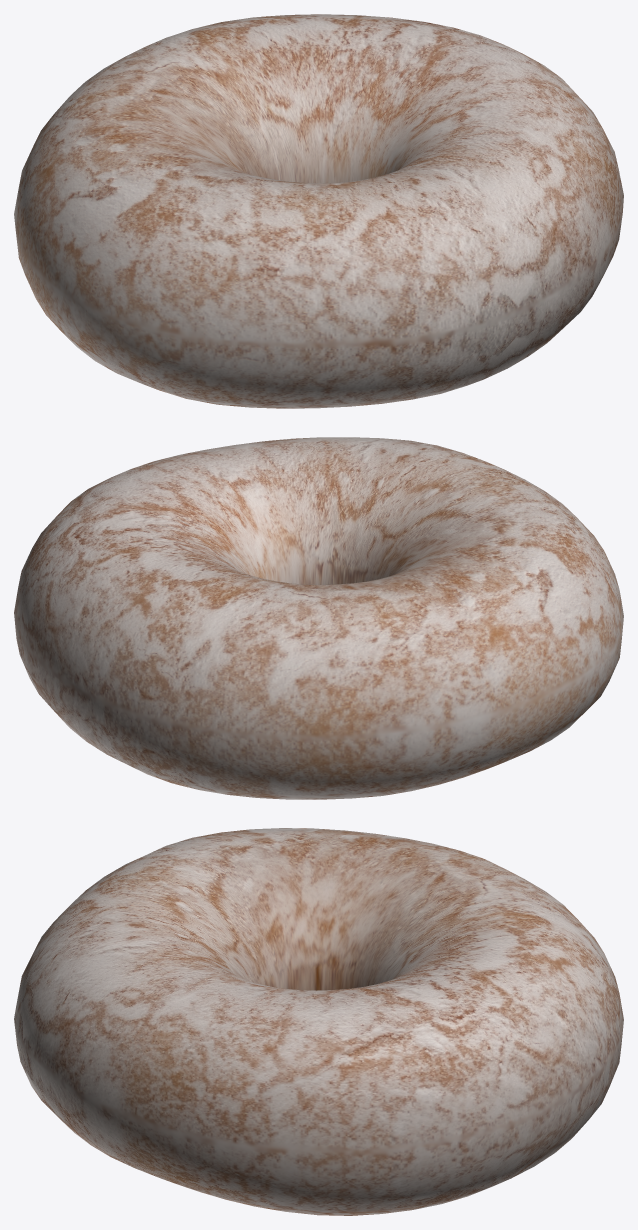
Rendered from Sugar Donut.glb.
3 views of the same model, one above another, from view 1: azimuth 30°, elevation 25°; view 2: azimuth 150°, elevation 25°; view 3: azimuth 270°, elevation 25° (orthographic). The views are drawn at different scales.
Visible parts, largest first — view 1: Torus.002; view 2: Torus.002; view 3: Torus.002.
Part boxes in pixels (x1,y1,x2,y2): Torus.002: (14,14,623,408); Torus.002: (14,437,623,799); Torus.002: (14,828,623,1215).
Size of the model in its own units: 0.1937 by 0.0698 by 0.1912.
Materials: 1 (1 with a texture image).
